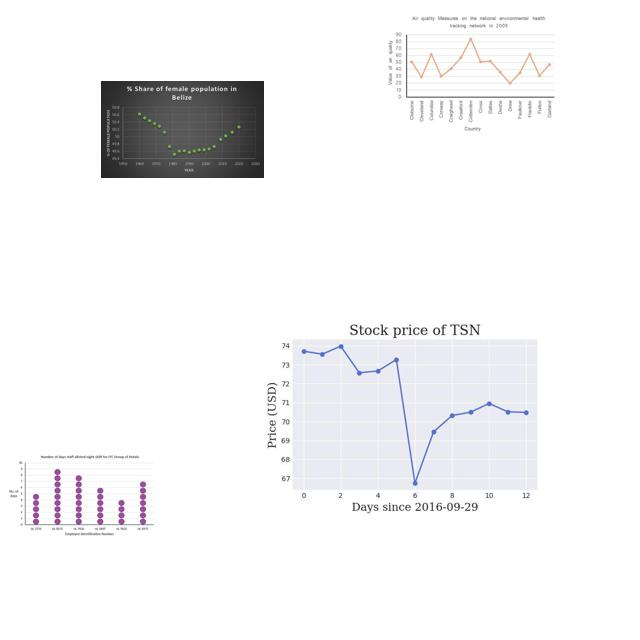Graph: (253, 295, 569, 532), (384, 13, 558, 135), (101, 81, 264, 178), (4, 453, 157, 539)
